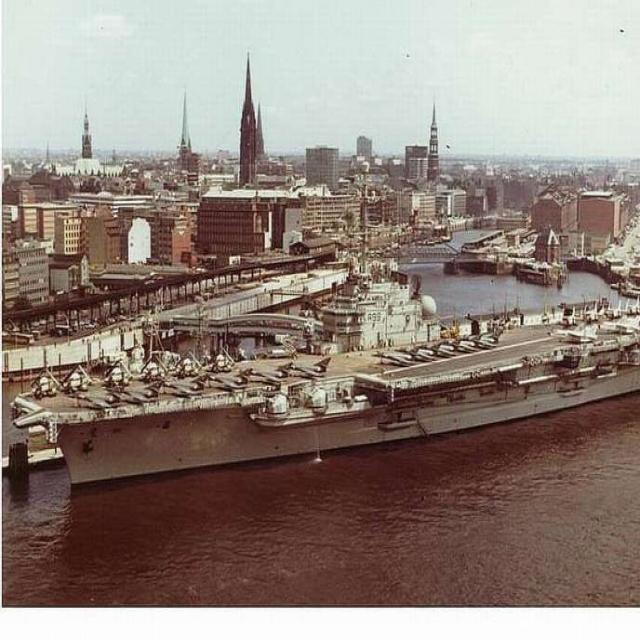Portanaves: (6, 201, 640, 509)
